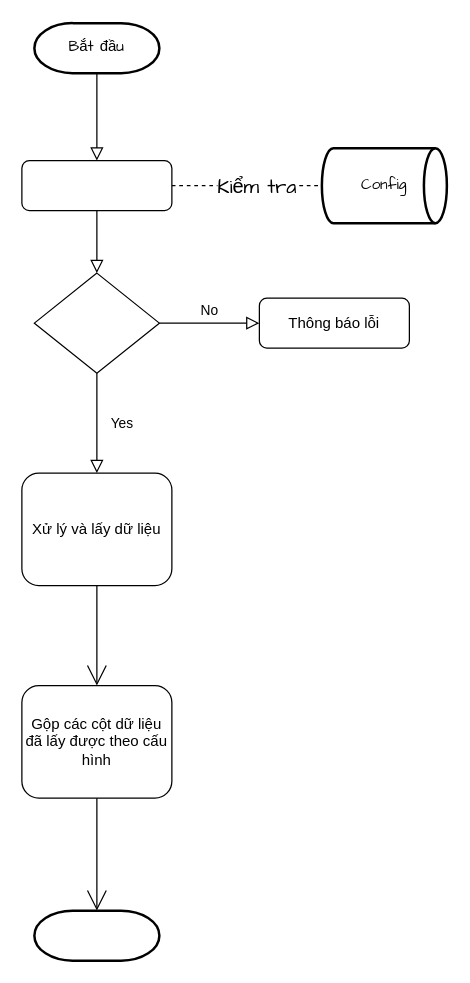
Some shapes in this 470 by 983 pixel diagram are drawn without their labels. The box of each missing label's shape, as (x1, y1, x2, y2) in pixels:
Cấu hình đã hợp lệ?: (33, 272, 159, 373)
Kiểm tra cấu hình: (21, 159, 172, 211)
Kết thúc: (32, 909, 160, 961)
